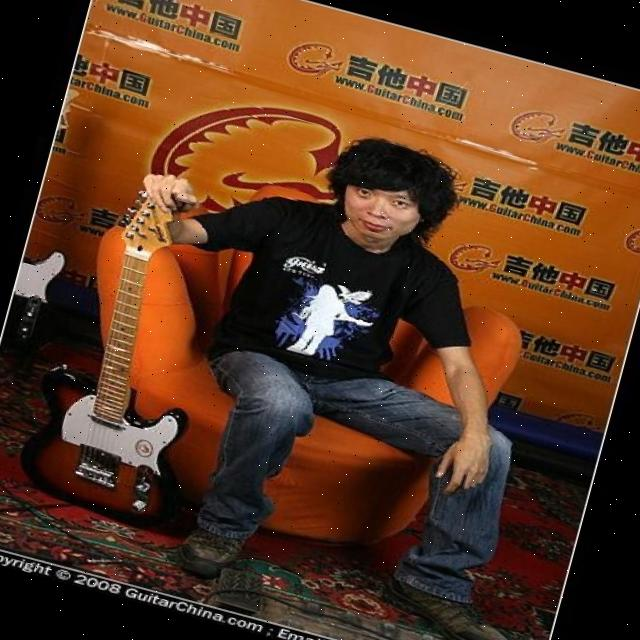guitar: (11, 176, 256, 537), (2, 86, 122, 352)
